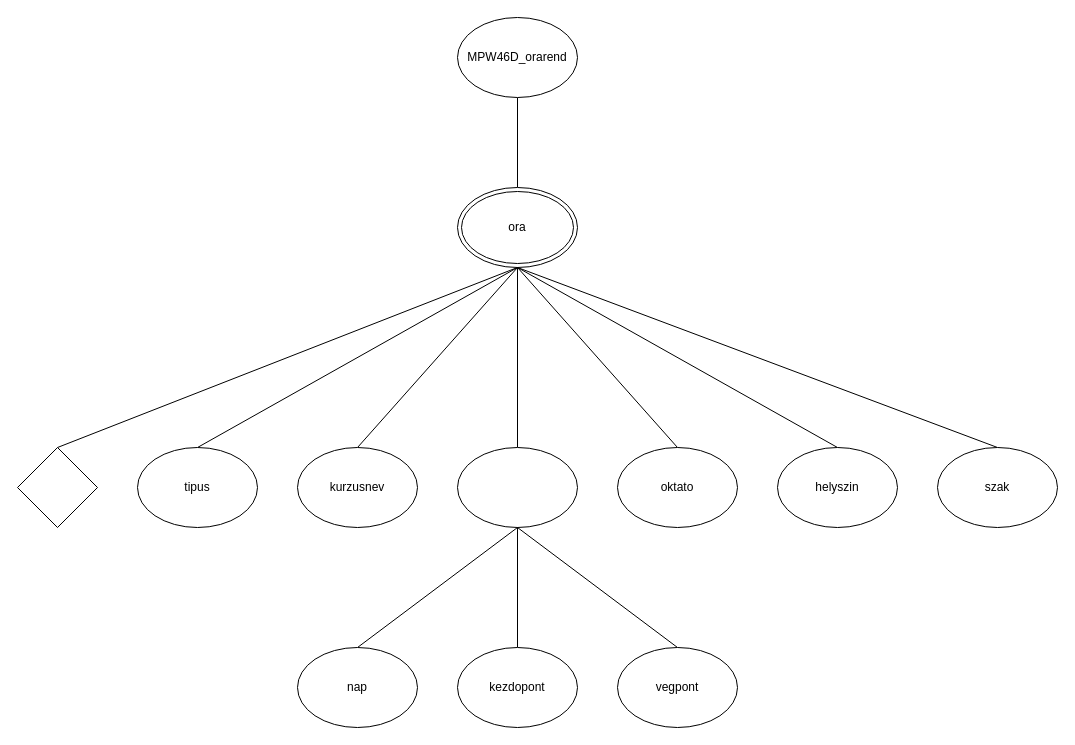
Some shapes in this 1075 by 745 pixel diagram are drawn without their labels. The shapes that lost their labels are listed below. From the top down, each one's box as (x1, y1, x2, y2) in pixels, then its label:
(16, 446, 98, 528): kod
(456, 446, 578, 528): idopont
